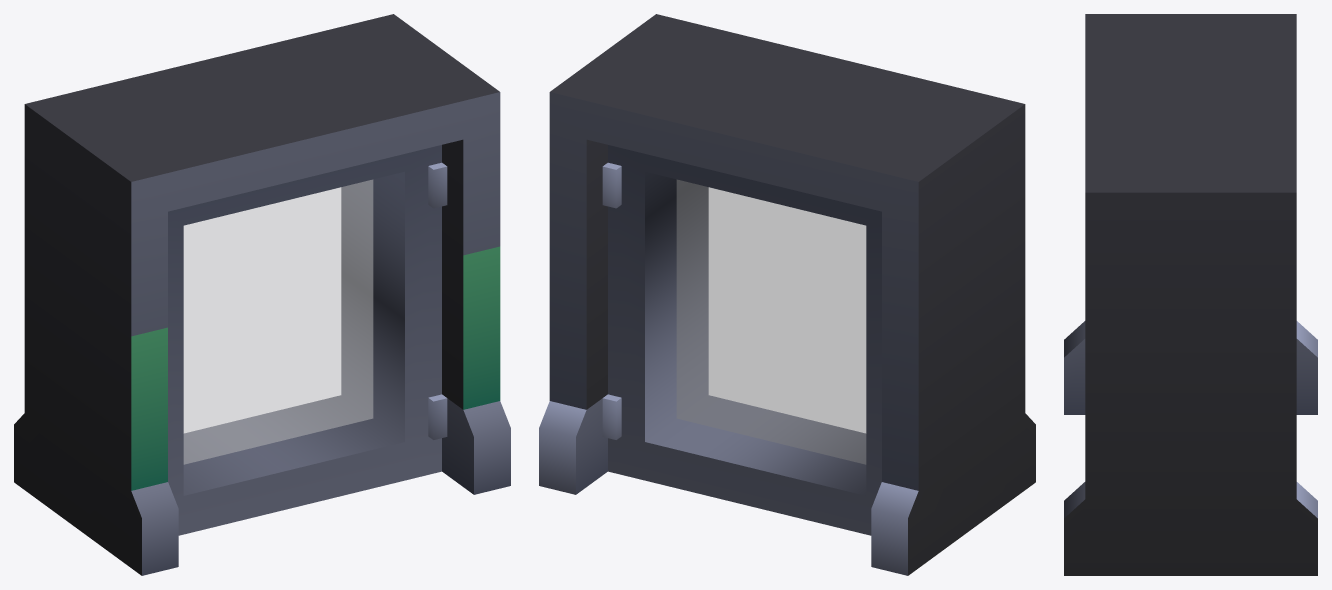
Rendered from wall-window.glb.
The picture shows the model from 3 angles, left to right: view 1: azimuth 30°, elevation 25°; view 2: azimuth 150°, elevation 25°; view 3: azimuth 270°, elevation 25°; orthographic projection.
Visible parts, largest first — view 1: wall-window, (%ignore); view 2: wall-window, (%ignore); view 3: wall-window.
Part boxes in pixels (x1,y1,x2,y2): wall-window: (14, 14, 510, 575); (%ignore): (183, 179, 373, 464); wall-window: (539, 14, 1035, 575); (%ignore): (676, 179, 866, 464); wall-window: (1064, 14, 1317, 575).
Bounding box in the file's own units: 1 × 1 × 0.6.
